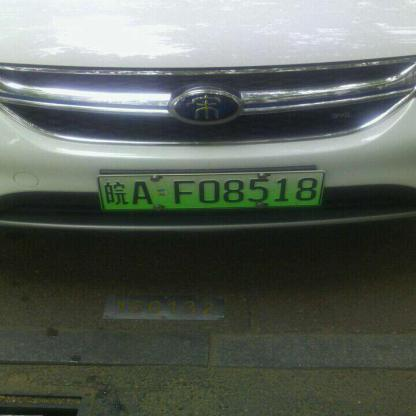lp: (98, 170, 322, 209)
